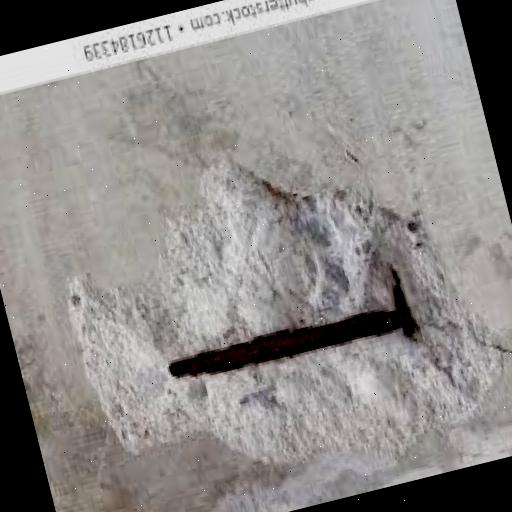spalling: (71, 171, 495, 466)
